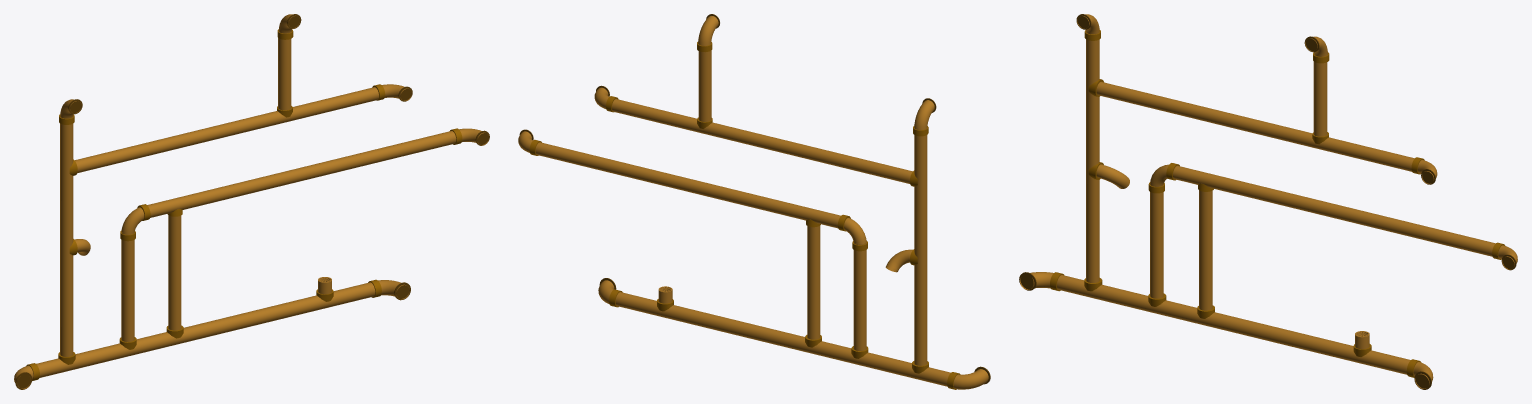
Rendered from Pipes6.fbx.
3 views of the same model, side by side, from view 1: azimuth 30°, elevation 25°; view 2: azimuth 150°, elevation 25°; view 3: azimuth 330°, elevation 25° (orthographic). The views are drawn at different scales.
Parts seen in each view (by area): view 1: pCylinder35; view 2: pCylinder35; view 3: pCylinder35.
Boxes of the visible parts, bbox=[...] form: pCylinder35: bbox=[14, 14, 489, 389]; pCylinder35: bbox=[518, 14, 990, 389]; pCylinder35: bbox=[1019, 14, 1517, 389].
Bounding box in the file's own units: 1096 × 686 × 80.13.
